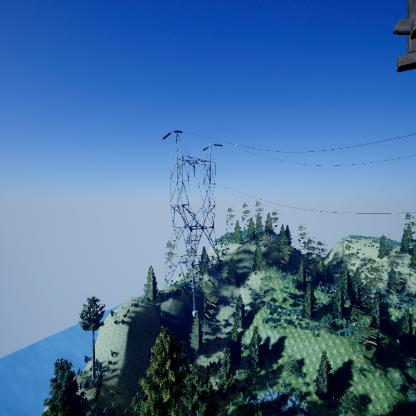tower: (161, 128, 226, 320)
